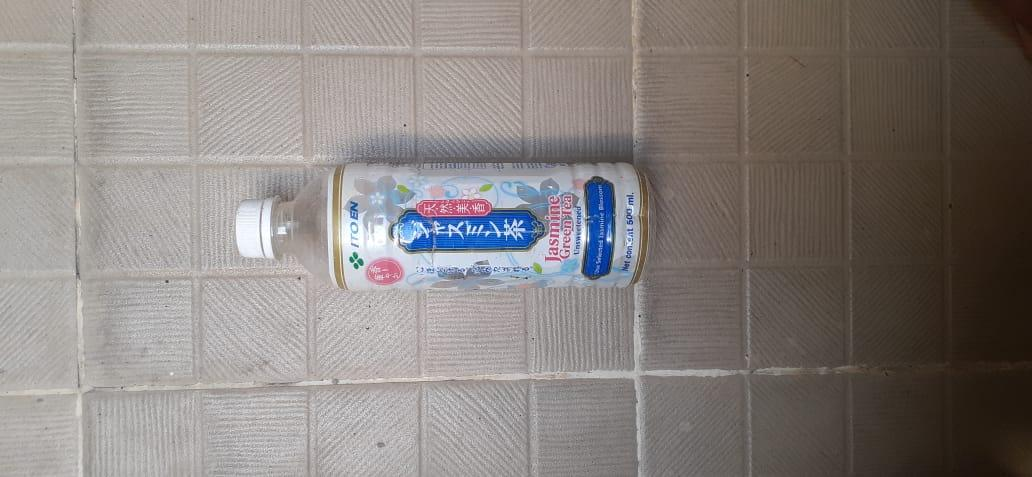Plastik: (236, 159, 658, 290)
